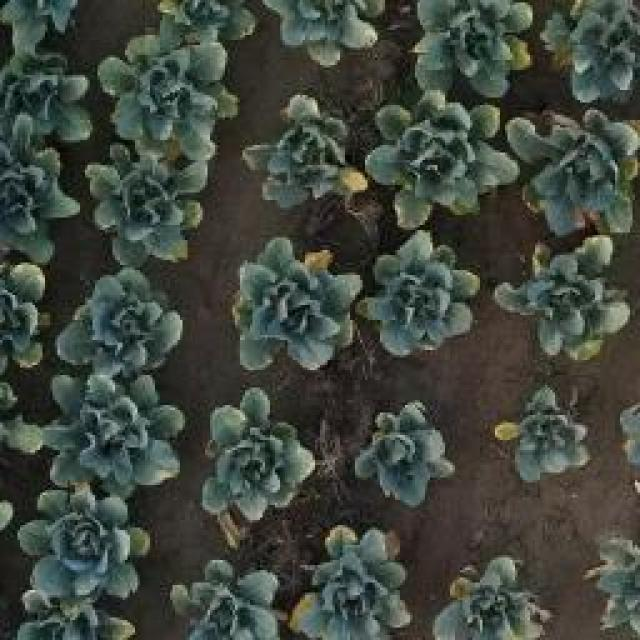cabbage: (368, 99, 520, 223), (37, 371, 179, 496), (503, 236, 632, 356), (512, 105, 640, 224), (242, 93, 370, 212), (366, 230, 475, 360), (20, 492, 147, 602), (207, 390, 313, 520), (59, 271, 180, 382), (93, 151, 211, 264), (232, 245, 342, 363), (100, 35, 210, 153), (299, 530, 413, 639), (414, 0, 534, 99), (541, 0, 640, 104), (168, 558, 287, 640), (0, 51, 98, 149), (260, 0, 392, 71), (497, 389, 593, 481), (354, 406, 450, 497), (434, 556, 538, 640), (0, 154, 82, 260), (152, 0, 259, 42), (232, 245, 352, 250)
